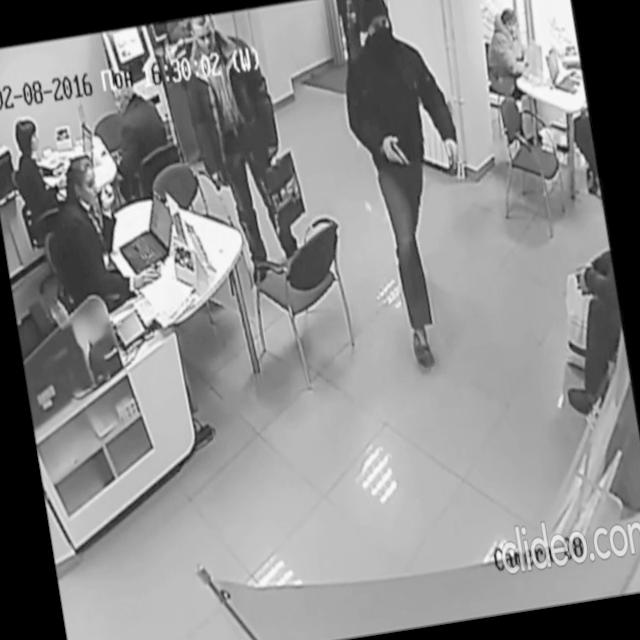gun: (388, 134, 412, 172)
person: (174, 5, 306, 292), (41, 142, 165, 318), (478, 2, 546, 152), (7, 111, 77, 240)
person with a gun: (329, 0, 494, 380)
